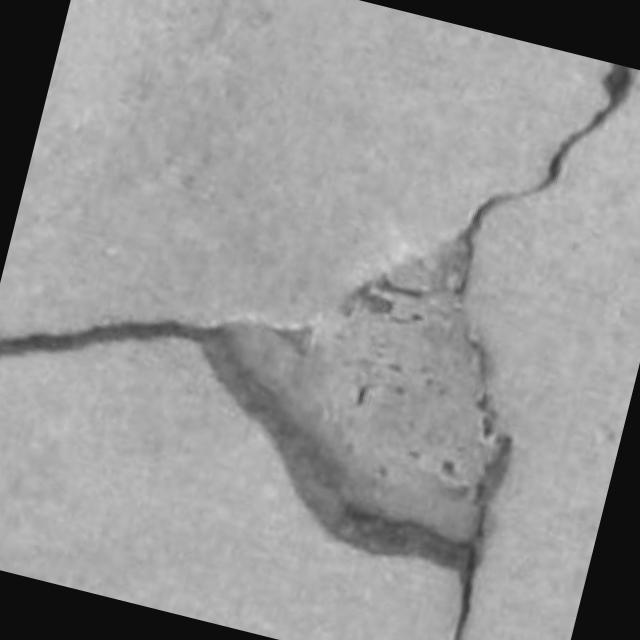crack: (0, 319, 511, 639), (0, 319, 470, 572), (200, 239, 506, 571), (446, 64, 634, 296), (0, 319, 214, 357)
